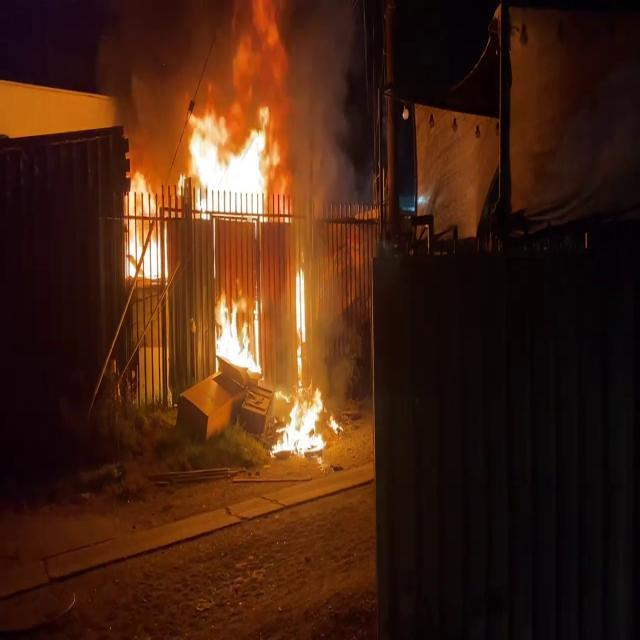Fire: (182, 102, 282, 225), (122, 166, 168, 289), (270, 378, 334, 459), (211, 290, 261, 380), (292, 256, 316, 350)
Smoke: (106, 0, 357, 165), (262, 0, 366, 304)
